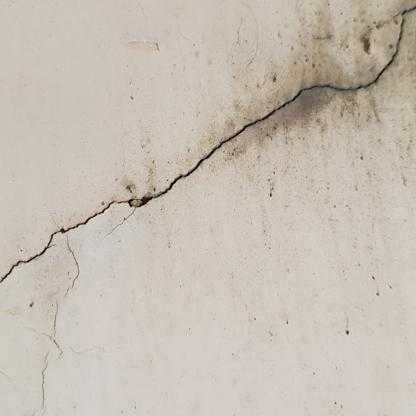crack: (0, 5, 415, 285)
